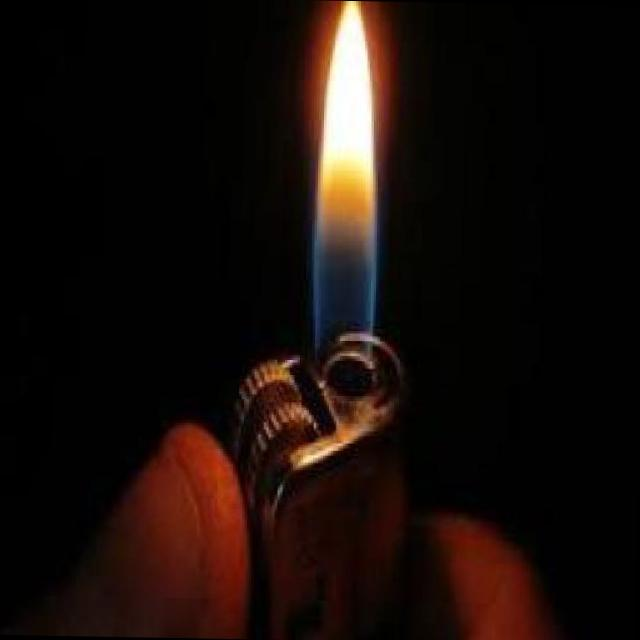Fire: (312, 0, 381, 356)
